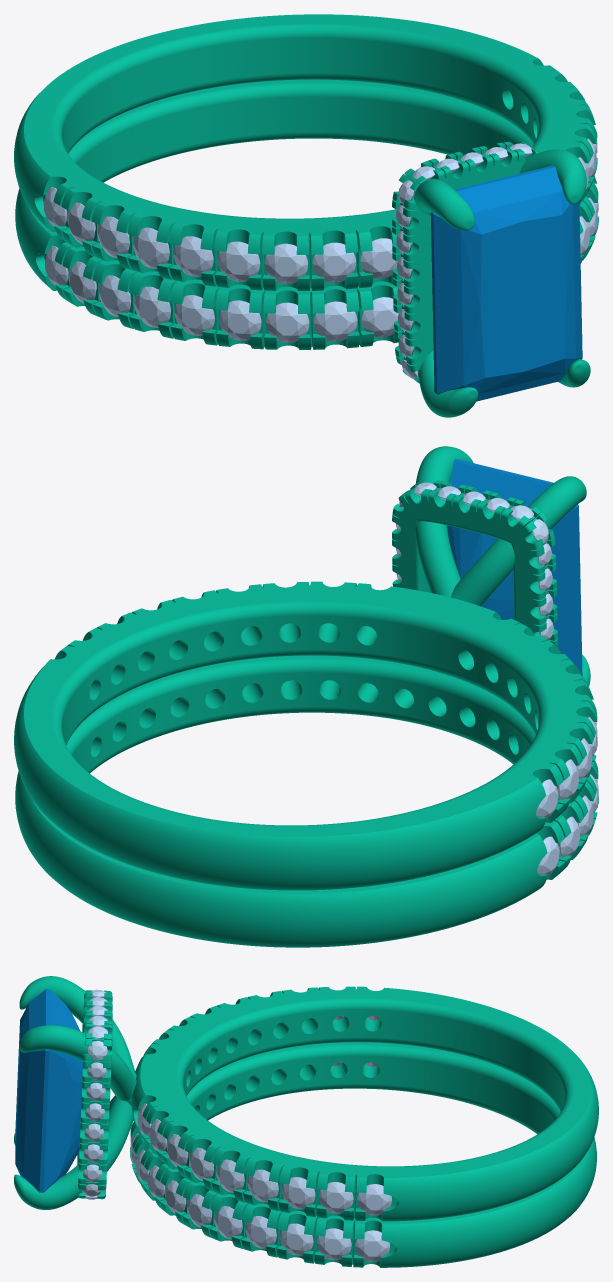
The picture shows the model from 3 angles, top to bottom: view 1: azimuth 30°, elevation 25°; view 2: azimuth 150°, elevation 25°; view 3: azimuth 270°, elevation 25°; orthographic projection. The views are drawn at different scales.
Visible parts, largest first — view 1: VR-115(base).3dm, Diamond_Radiant, Diamond_Round (×18); view 2: VR-115(base).3dm, Diamond_Radiant; view 3: VR-115(base).3dm, Diamond_Round (×14), Diamond_Radiant.
Part boxes in pixels (box(x1,y1,x2,y2)): VR-115(base).3dm: box(14, 14, 598, 417); Diamond_Radiant: box(430, 165, 582, 401); Diamond_Round (×18): box(43, 187, 398, 342); VR-115(base).3dm: box(14, 446, 598, 947); Diamond_Radiant: box(447, 459, 582, 675); VR-115(base).3dm: box(14, 976, 598, 1267); Diamond_Round (×14): box(164, 1134, 391, 1262); Diamond_Radiant: box(15, 989, 82, 1192).
Size of the model in its own units: 2.41 by 1.04 by 3.02.
